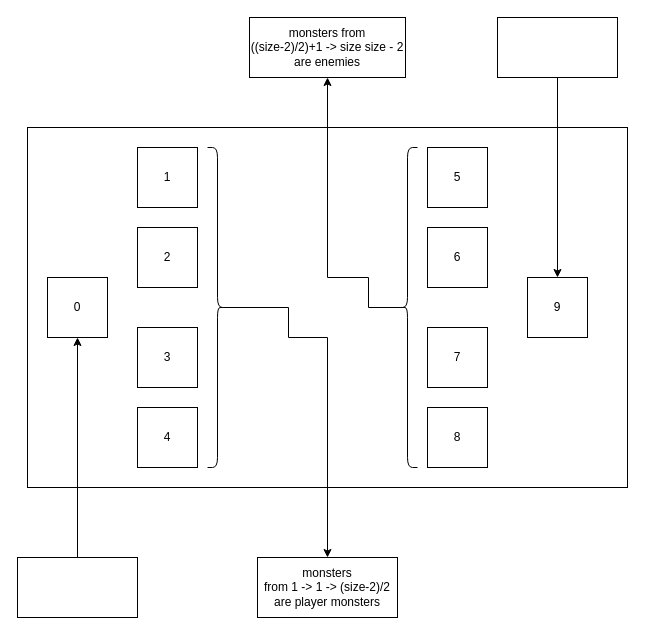
The diagram is 645 pixels wide and 635 high, and some of its shapes have lost their labels. Each missing label, with the centre of its shape:
"always 0" goes at point 77,587.
"always size-1" goes at point 557,47.
